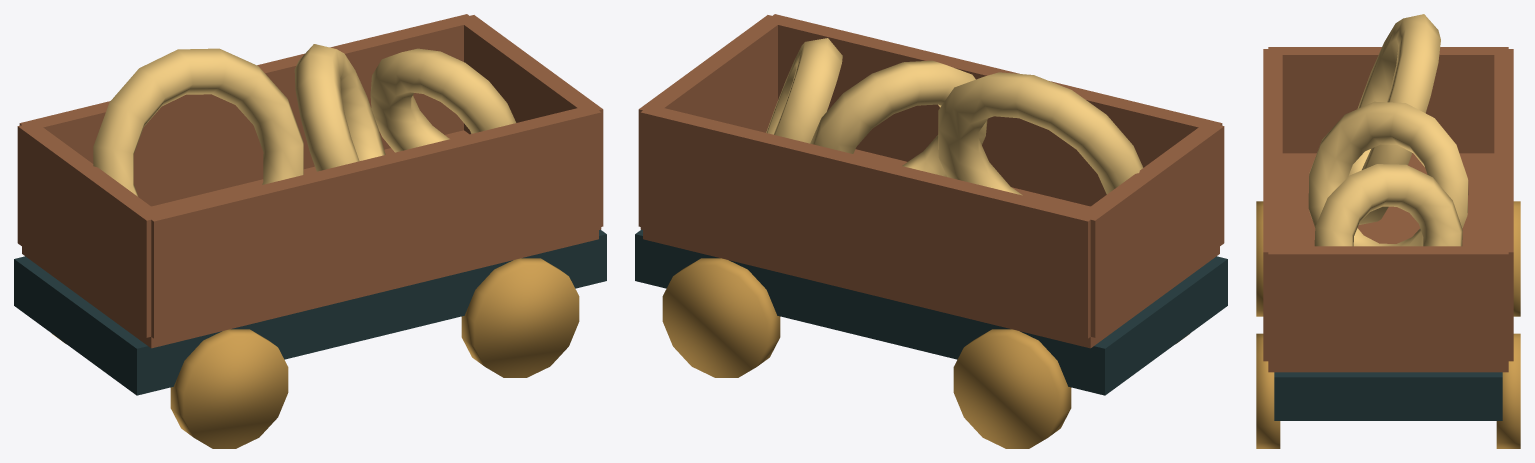
File: wagon-1.glb
3 renders of one model, left to right at view 1: azimuth 30°, elevation 25°; view 2: azimuth 150°, elevation 25°; view 3: azimuth 270°, elevation 25°, orthographic. The views are drawn at different scales.
Parts seen in each view (by area): view 1: wagon-1; view 2: wagon-1; view 3: wagon-1.
Part boxes in pixels (left/top/right/bottom): wagon-1: left=14, top=14, right=606, bottom=448; wagon-1: left=635, top=14, right=1227, bottom=448; wagon-1: left=1256, top=14, right=1520, bottom=448.
Size of the model in its own units: 2.1 by 1.38 by 1.1.
